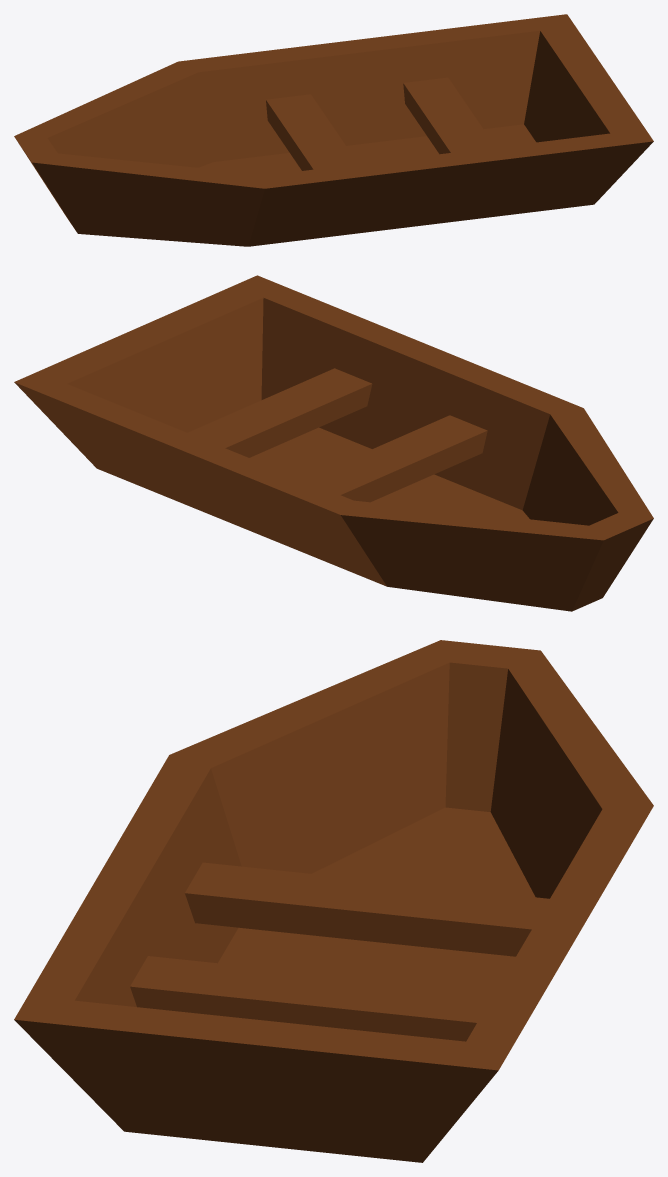
Rendered from Lodka.fbx.
3 views of the same model, one above another, from view 1: azimuth 30°, elevation 25°; view 2: azimuth 150°, elevation 25°; view 3: azimuth 270°, elevation 25° (orthographic). The views are drawn at different scales.
Visible parts, largest first — view 1: boat-seat2; view 2: boat-seat2; view 3: boat-seat2.
Part boxes in pixels (x1,y1,x2,y2): boat-seat2: [14, 14, 653, 246]; boat-seat2: [14, 275, 653, 611]; boat-seat2: [14, 640, 653, 1162].
Bounding box in the file's own units: 398 × 56.7 × 250.
